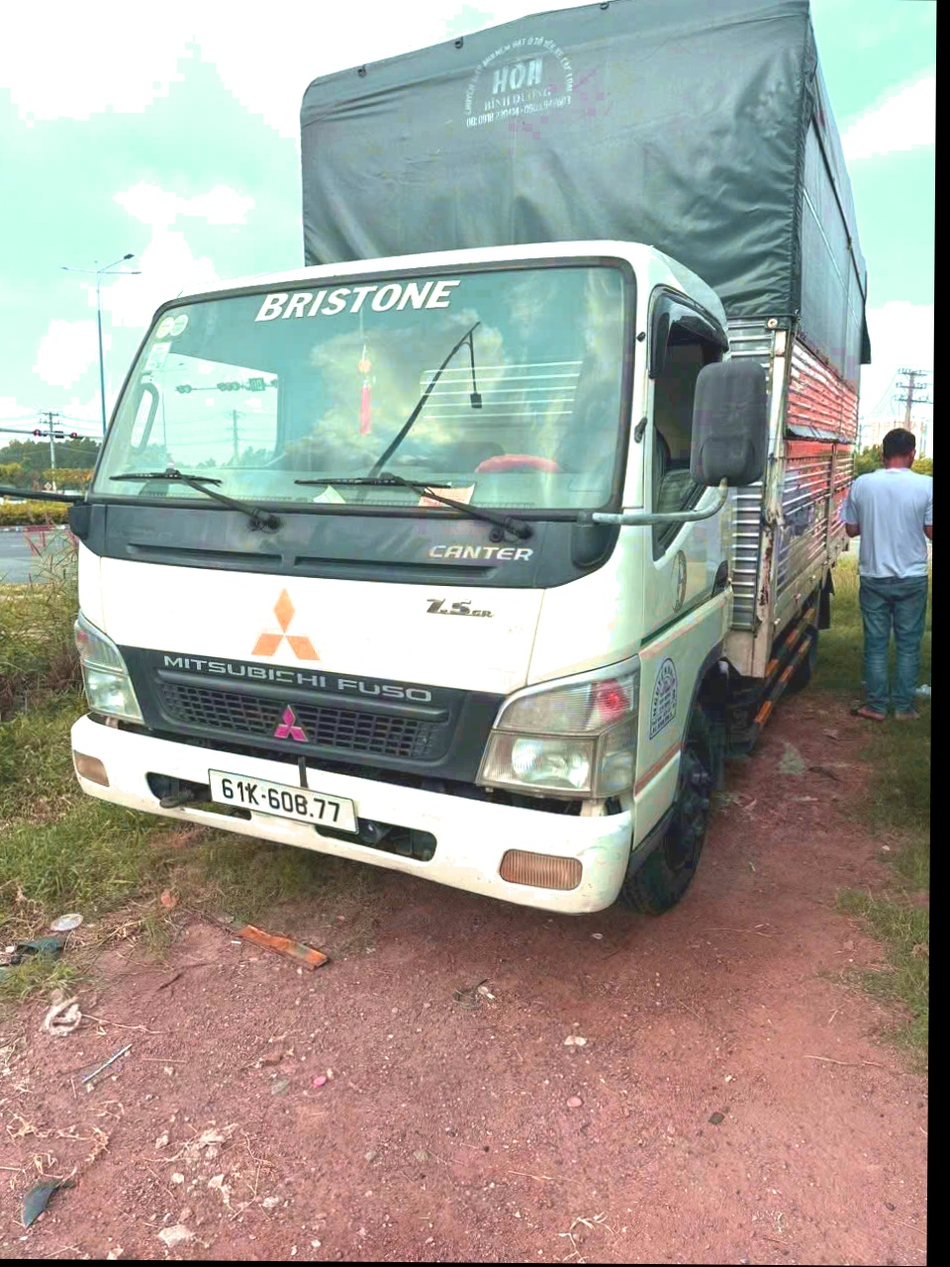Bien-so: (206, 764, 369, 841)
